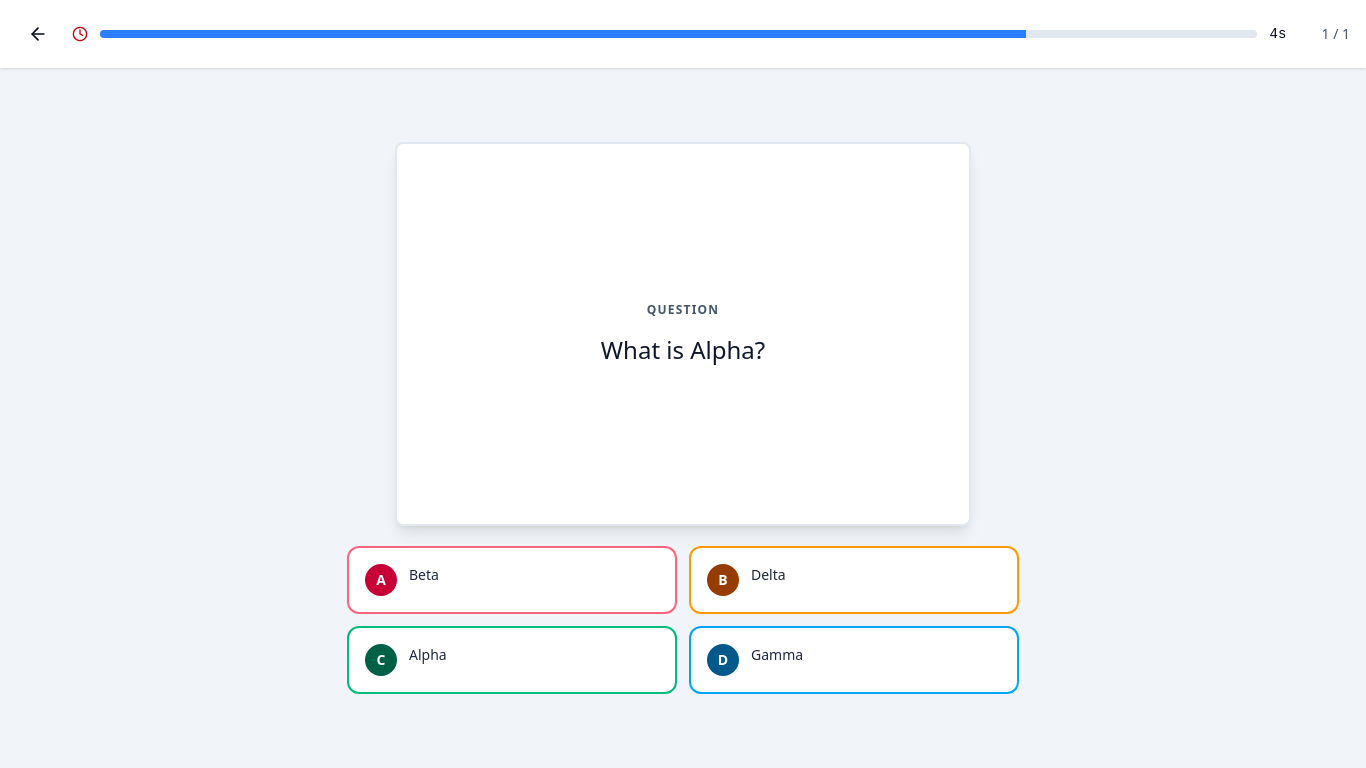
it: keeps displayed option order through countdown rerenders and feedback
Check: the heading "What is Alpha?" is shown, box x1=601 y1=334 x2=765 y2=366
Click the button "A Beta".
click(381, 580)  # box x1=347 y1=546 x2=677 y2=614
(page scrolled)
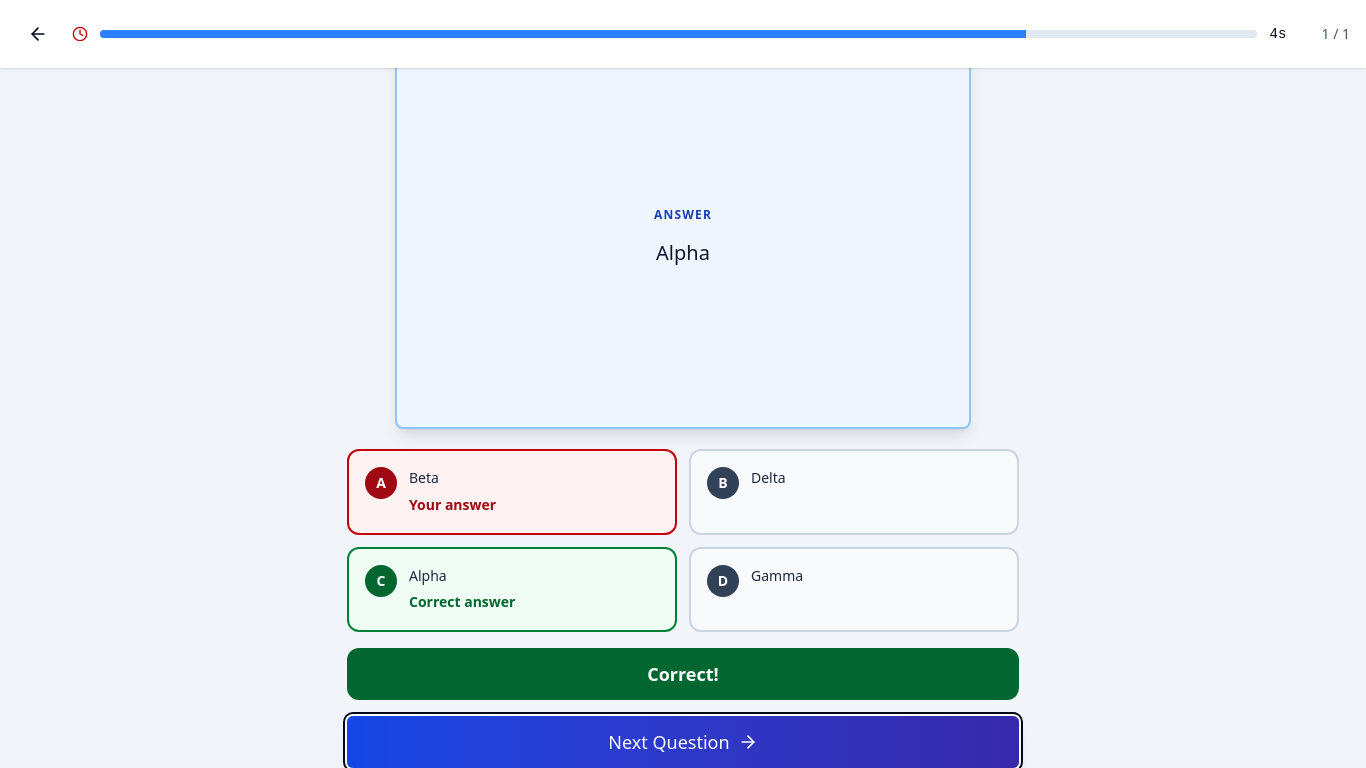
Check: the button "Next Question" is shown, box x1=347 y1=716 x2=1019 y2=767
